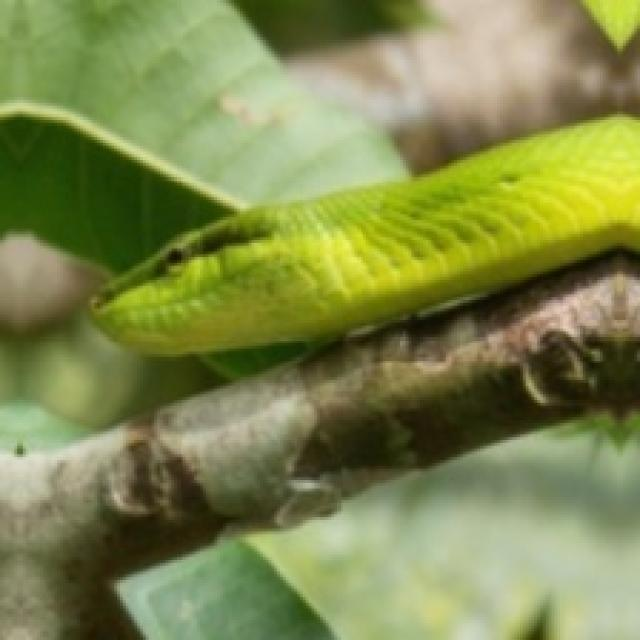red-tailed green ratsnake: (91, 114, 637, 351)
